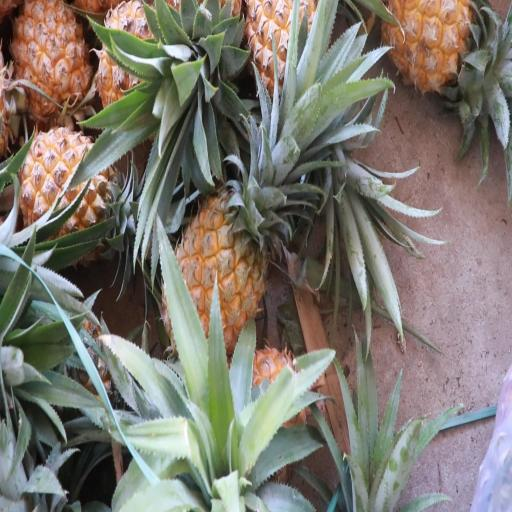Pineapple - v8 v1: (159, 162, 273, 368), (14, 122, 130, 273), (93, 0, 191, 129), (10, 0, 96, 135), (243, 0, 337, 116), (380, 0, 486, 100)
